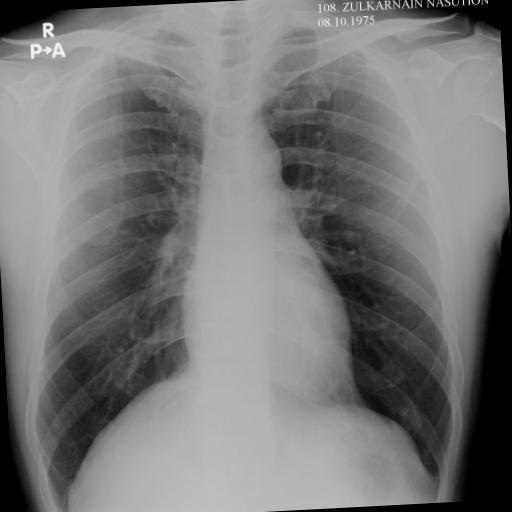normal: (4, 0, 469, 512)
